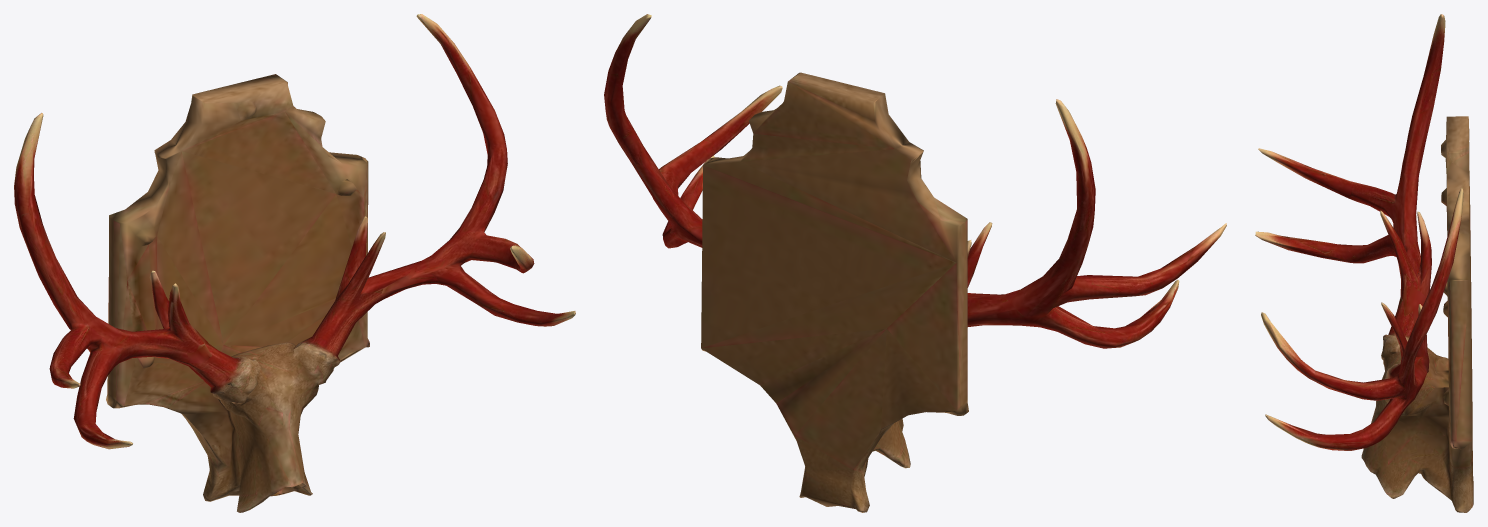
Rendered from antlers.glb.
The picture shows the model from 3 angles, left to right: view 1: azimuth 30°, elevation 25°; view 2: azimuth 150°, elevation 25°; view 3: azimuth 270°, elevation 25°; orthographic projection. The views are drawn at different scales.
Visible parts, largest first — view 1: antlers; view 2: antlers; view 3: antlers.
Part boxes in pixels (x1,y1,x2,y2): antlers: (14,14,575,512); antlers: (604,14,1226,512); antlers: (1255,14,1473,512).
Bounding box in the file's own units: 0.7383 × 0.6 × 0.3.
Materials: 1 (1 with a texture image).
